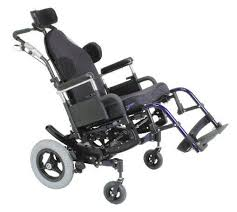wheelchair: (18, 17, 211, 201)
